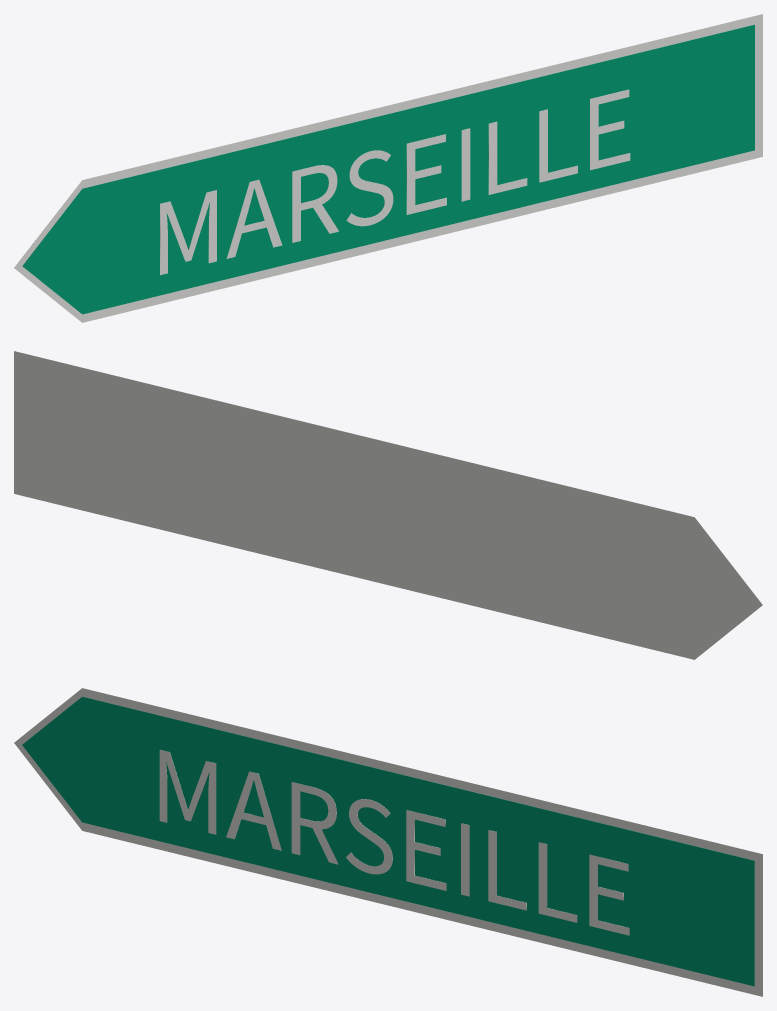
3 views of the same model, one above another, from view 1: azimuth 30°, elevation 25°; view 2: azimuth 150°, elevation 25°; view 3: azimuth 330°, elevation 25° (orthographic).
Visible parts, largest first — view 1: D21b_reg01, D21b_lis00, D21b_txt02; view 2: D21b_lis00; view 3: D21b_reg01, D21b_lis00, D21b_txt02.
Part boxes in pixels (x1=…): D21b_reg01: x1=22, y1=24, x2=754, y2=314; D21b_lis00: x1=14, y1=14, x2=762, y2=322; D21b_txt02: x1=160, y1=89, x2=630, y2=275; D21b_lis00: x1=14, y1=351, x2=762, y2=659; D21b_reg01: x1=22, y1=696, x2=754, y2=986; D21b_lis00: x1=14, y1=688, x2=762, y2=996; D21b_txt02: x1=159, y1=749, x2=629, y2=935.
Size of the model in its own units: 1.37 by 0.25 by 0.0012.
